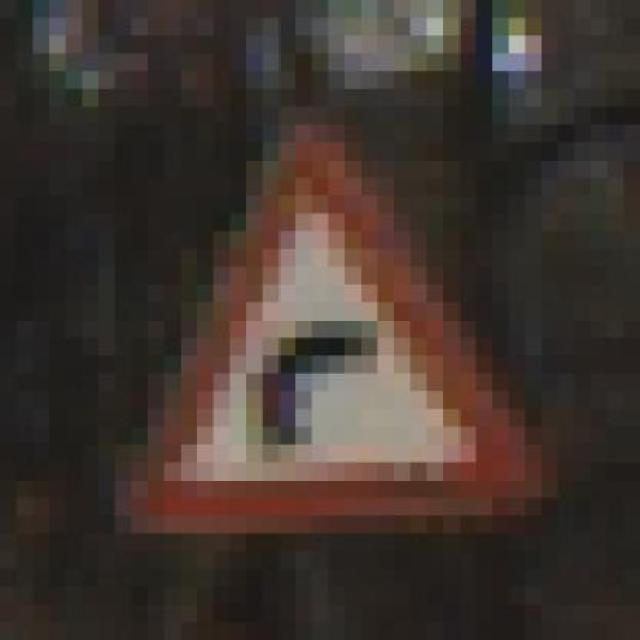Dangerous Rright Curve Ahead: (65, 124, 542, 534)
